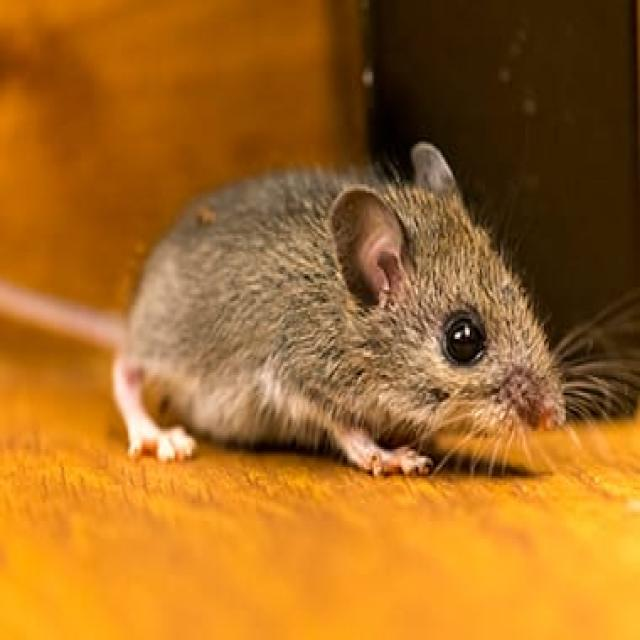rat: (2, 133, 588, 504)
